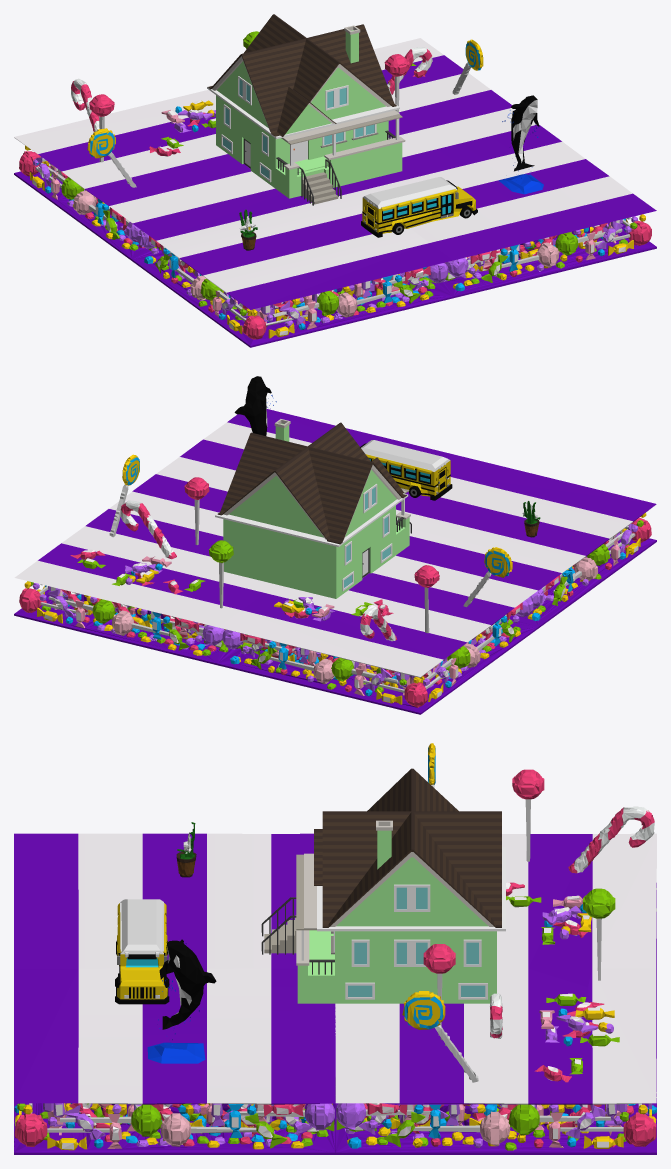
3 views of the same model, one above another, from view 1: azimuth 30°, elevation 25°; view 2: azimuth 150°, elevation 25°; view 3: azimuth 270°, elevation 25° (orthographic). The views are drawn at different scales.
Visible parts, largest first — view 1: TERRAIN_CANDY, Cube.274, VEHICLES_SCHOOL_BUS, ANIMAL_ORCA, OBJRANDOM_MONJA BLANCA; view 2: TERRAIN_CANDY, Cube.274, VEHICLES_SCHOOL_BUS, ANIMAL_ORCA; view 3: TERRAIN_CANDY, Cube.274, VEHICLES_SCHOOL_BUS, ANIMAL_ORCA, OBJRANDOM_MONJA BLANCA.
Boxes of the visible parts, box(x1,y1,x2,y2) form: TERRAIN_CANDY: box(14, 31, 656, 347); Cube.274: box(207, 14, 405, 205); VEHICLES_SCHOOL_BUS: box(361, 177, 477, 237); ANIMAL_ORCA: box(498, 95, 543, 194); OBJRANDOM_MONJA BLANCA: box(239, 209, 257, 250); TERRAIN_CANDY: box(14, 409, 656, 714); Cube.274: box(215, 419, 411, 598); VEHICLES_SCHOOL_BUS: box(360, 440, 452, 500); ANIMAL_ORCA: box(234, 376, 276, 435); TERRAIN_CANDY: box(14, 743, 656, 1154); Cube.274: box(261, 768, 505, 1003); VEHICLES_SCHOOL_BUS: box(115, 899, 169, 1004); ANIMAL_ORCA: box(147, 939, 216, 1063); OBJRANDOM_MONJA BLANCA: box(176, 822, 196, 877).
Bounding box in the file's own units: 4059 × 1607 × 4000.
Materials: 32 (3 with a texture image).
